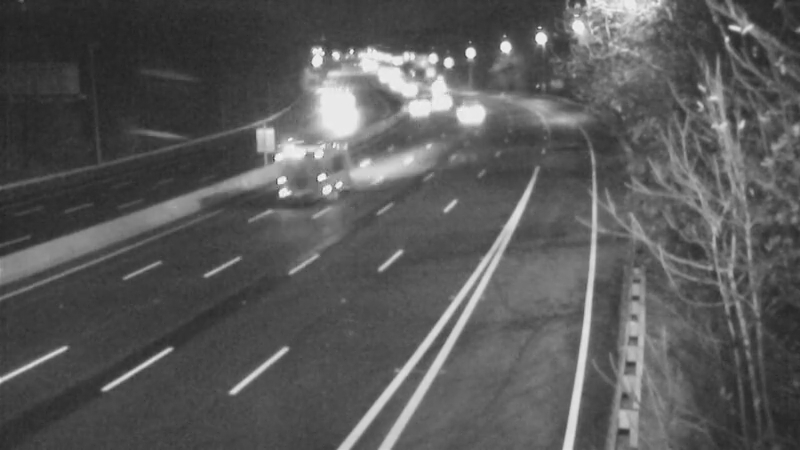vehicle: (257, 133, 337, 213), (382, 65, 432, 115), (415, 76, 465, 126), (445, 86, 495, 136), (388, 87, 438, 137), (316, 100, 366, 150)
